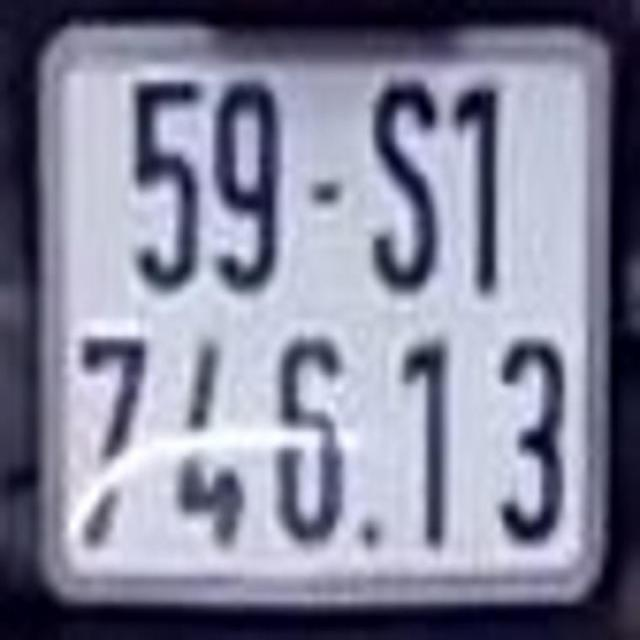1: (452, 84, 512, 295), (402, 330, 457, 545)
3: (499, 341, 567, 536)
4: (182, 336, 246, 547)
5: (135, 74, 204, 288)
6: (272, 328, 347, 541)
7: (57, 319, 154, 552)
9: (216, 80, 283, 297)
S: (368, 75, 443, 296)
